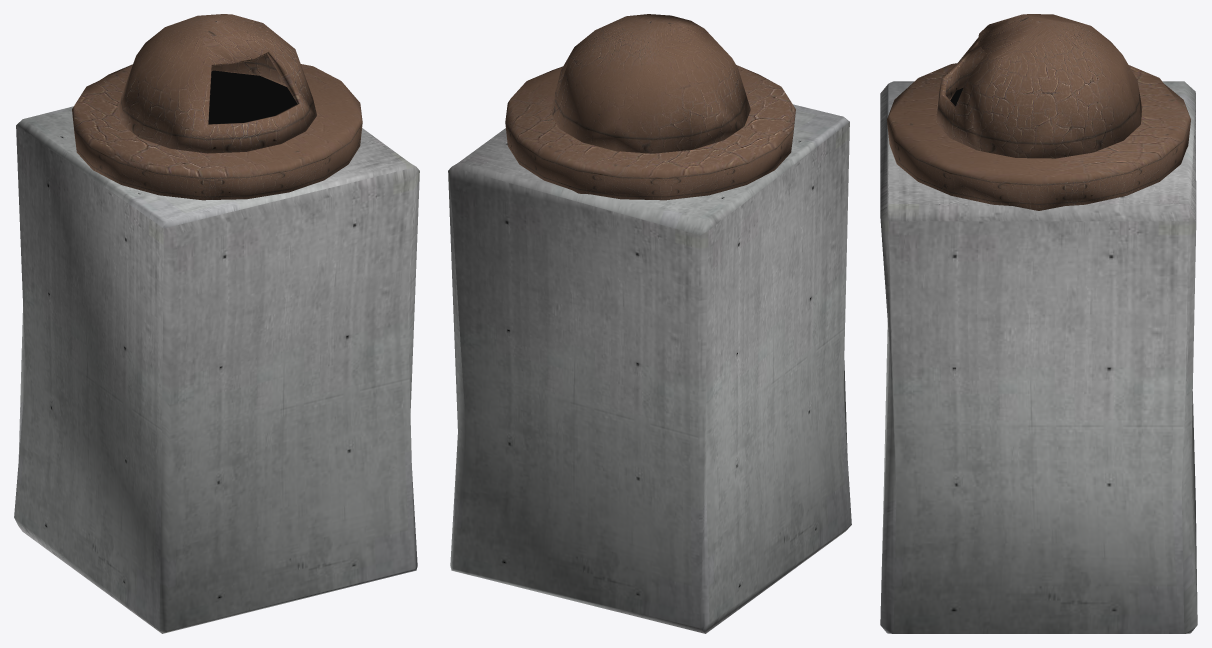
File: outdoor_cement_trashcan_square_3.fbx
3 views of the same model, side by side, from view 1: azimuth 30°, elevation 25°; view 2: azimuth 150°, elevation 25°; view 3: azimuth 270°, elevation 25° (orthographic). The views are drawn at different scales.
Visible parts, largest first — view 1: canCement_square_B, canRim, canShell, Cylinder01; view 2: canCement_square_B, canShell, canRim; view 3: canCement_square_B, canShell, canRim.
Boxes of the visible parts, bbox=[...] form: canCement_square_B: bbox=[14, 106, 419, 633]; canRim: bbox=[72, 64, 362, 200]; canShell: bbox=[117, 14, 316, 153]; Cylinder01: bbox=[208, 70, 297, 124]; canCement_square_B: bbox=[448, 104, 851, 633]; canShell: bbox=[550, 14, 750, 153]; canRim: bbox=[505, 65, 795, 200]; canCement_square_B: bbox=[880, 81, 1197, 633]; canShell: bbox=[936, 14, 1142, 158]; canRim: bbox=[887, 63, 1190, 210].
Size of the model in its own units: 0.5988 by 1.16 by 0.6048.
